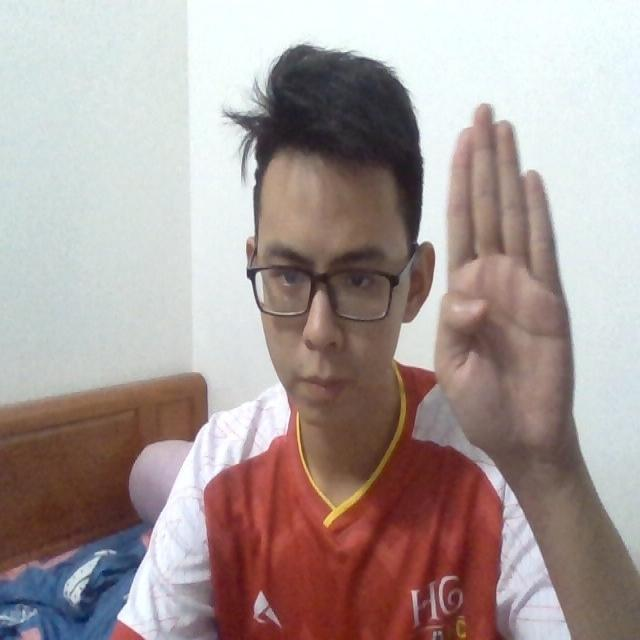B: (430, 96, 581, 460)
